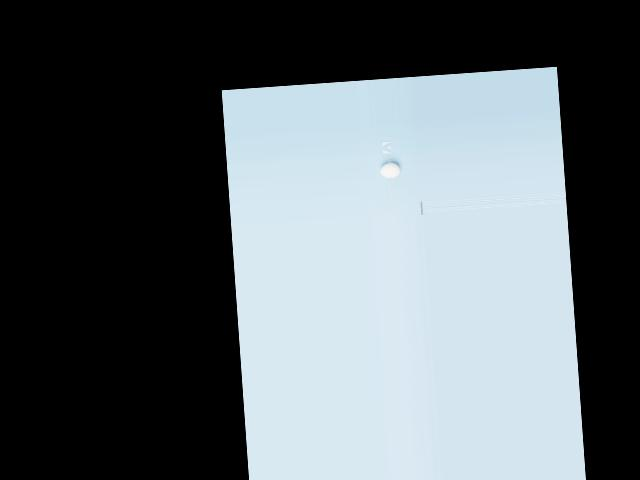egg: (380, 162, 400, 178)
